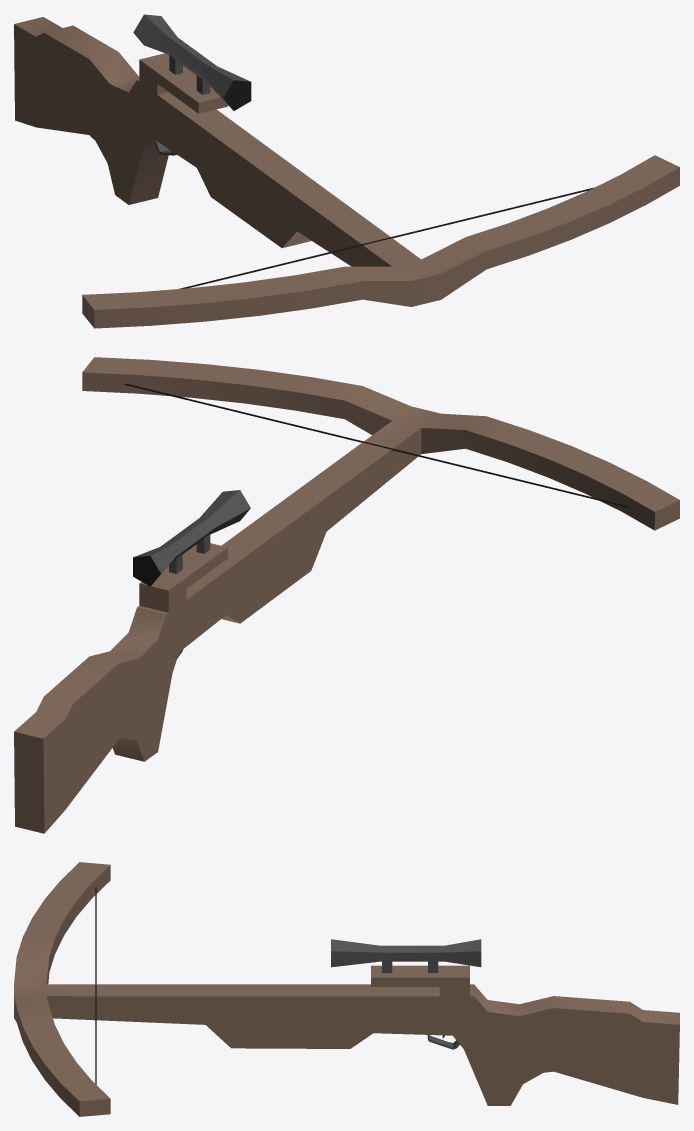
File: crossbowone_empty.dae
3 renders of one model, top to bottom at view 1: azimuth 30°, elevation 25°; view 2: azimuth 150°, elevation 25°; view 3: azimuth 270°, elevation 25°, orthographic. The views are drawn at different scales.
Parts seen in each view (by area): view 1: vsn_mesh_0_crossbowone; view 2: vsn_mesh_0_crossbowone; view 3: vsn_mesh_0_crossbowone.
Boxes of the visible parts, x1=… form: vsn_mesh_0_crossbowone: x1=14, y1=14, x2=679, y2=328; vsn_mesh_0_crossbowone: x1=14, y1=357, x2=679, y2=833; vsn_mesh_0_crossbowone: x1=14, y1=862, x2=679, y2=1116.
Size of the model in its own units: 0.6959 by 0.2165 by 0.8184.
1 material, 1 textured.
